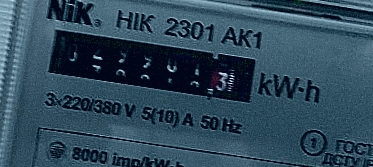0: (163, 48, 180, 75), (62, 40, 81, 63)
1: (187, 53, 204, 78)
2: (88, 41, 106, 62)
3: (213, 68, 229, 92)
9: (138, 47, 155, 71), (113, 43, 129, 66)
screen: (33, 16, 267, 114)
